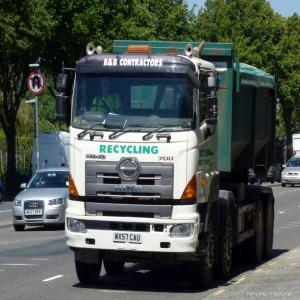Vehicle-registration-plate: (114, 230, 144, 243), (27, 209, 43, 216)
